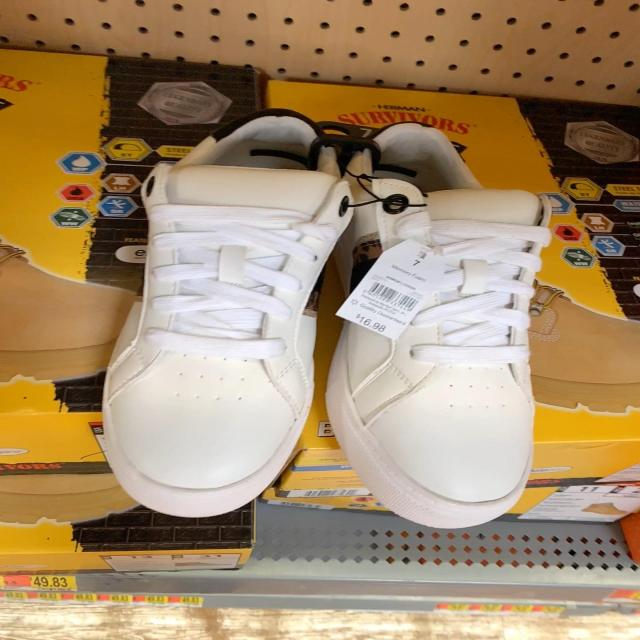shoe: (100, 113, 348, 518), (352, 240, 542, 506)
